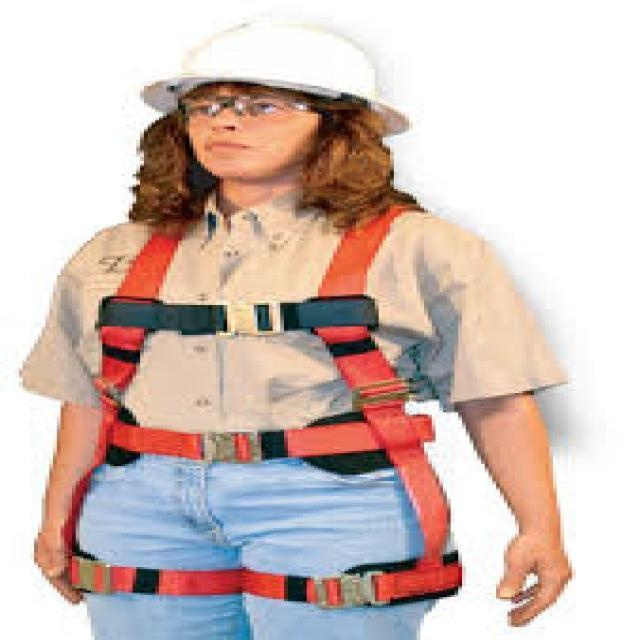Arnes_seguridad: (62, 198, 490, 606)
